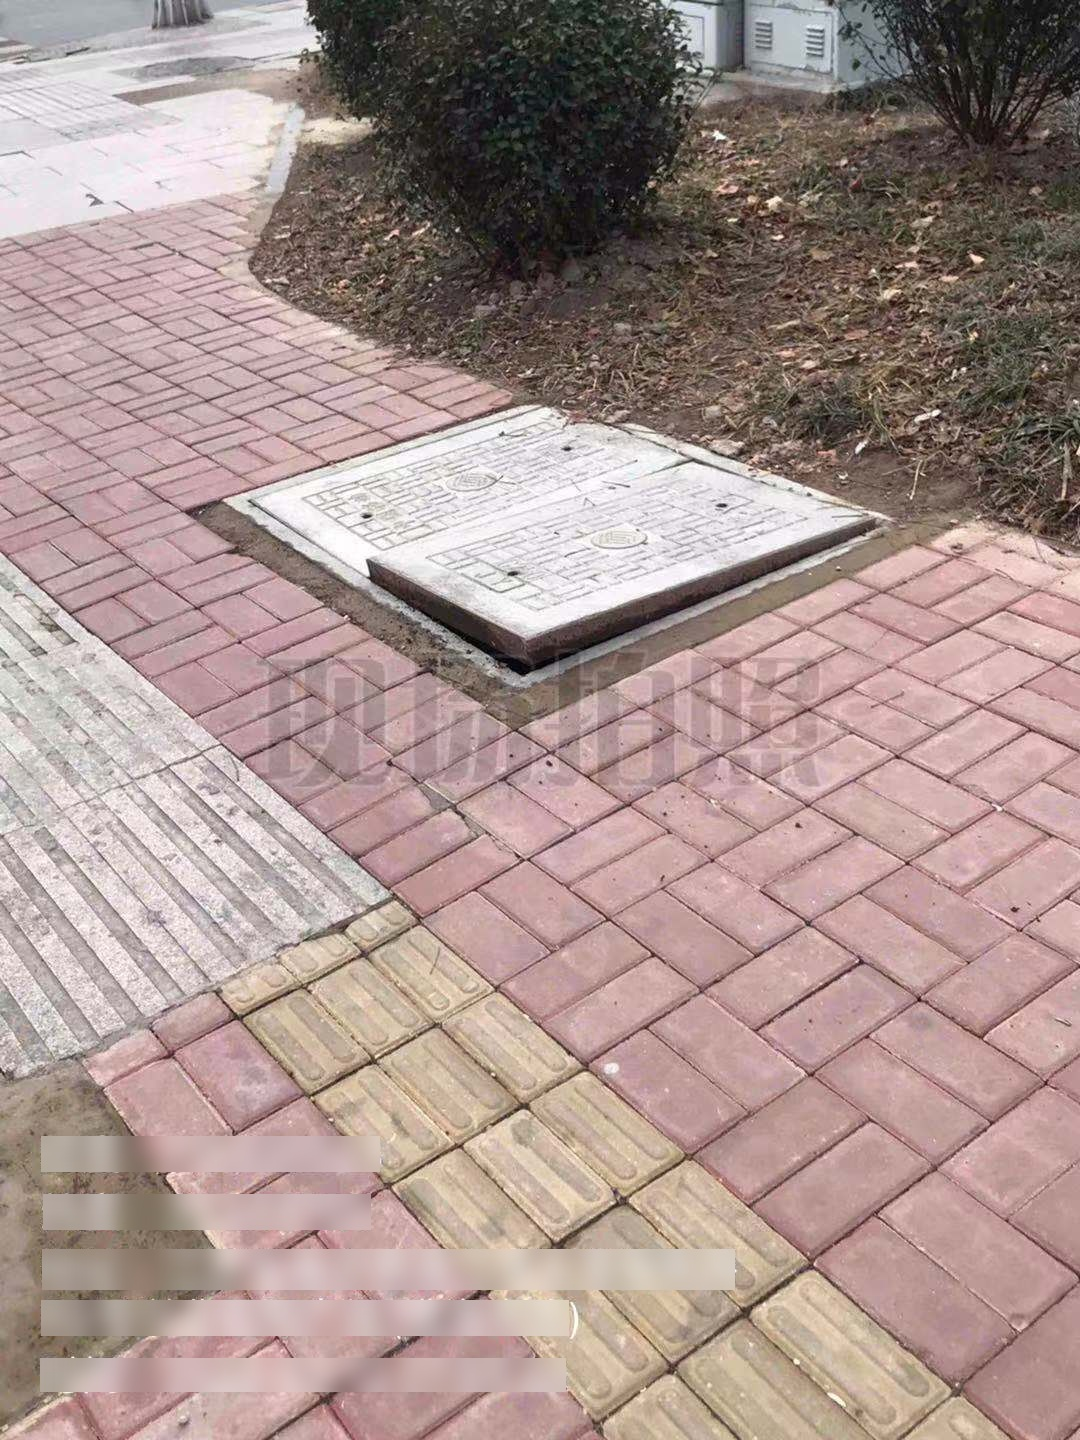uncovered: (223, 405, 895, 691)
